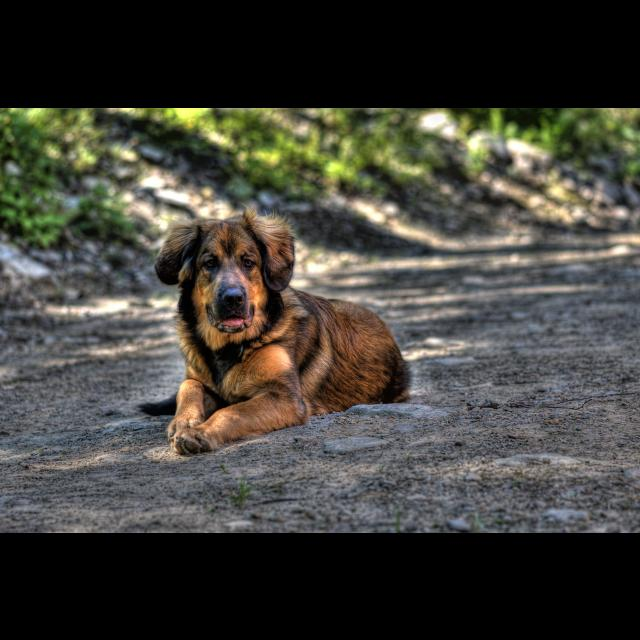other_dog_breed: (138, 205, 412, 456)
